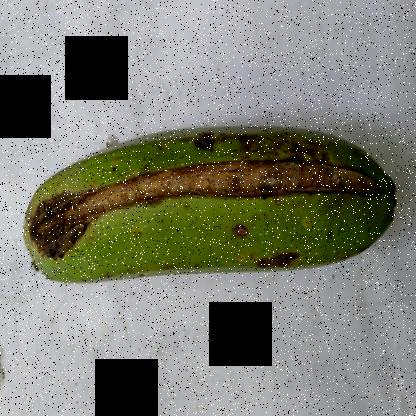rotten: (80, 137, 385, 217), (15, 149, 129, 271)
